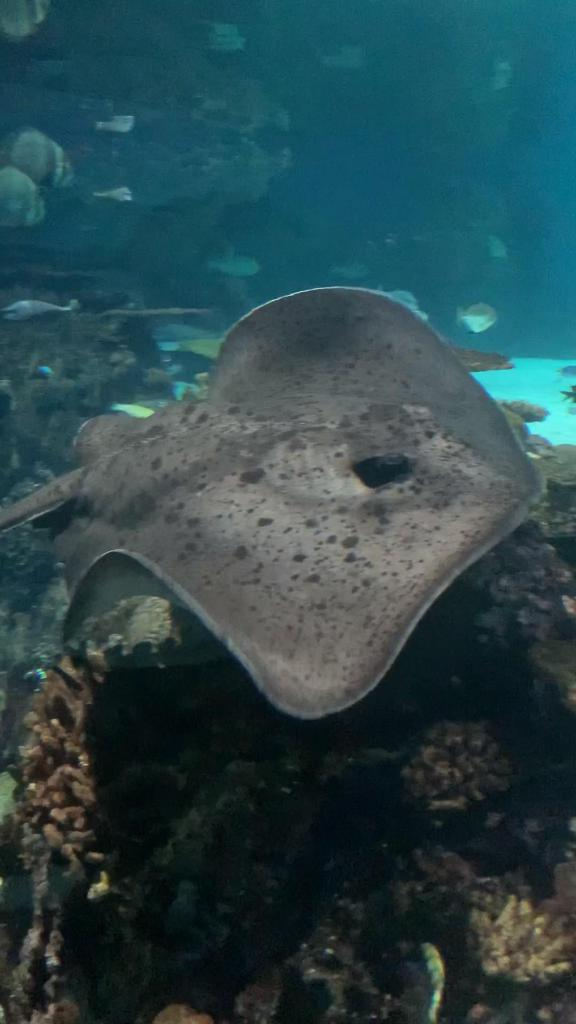fish: (0, 126, 75, 192), (0, 172, 48, 228), (0, 0, 52, 48), (0, 296, 81, 323), (200, 248, 264, 278), (453, 301, 499, 335)
stingray: (55, 286, 546, 722)
